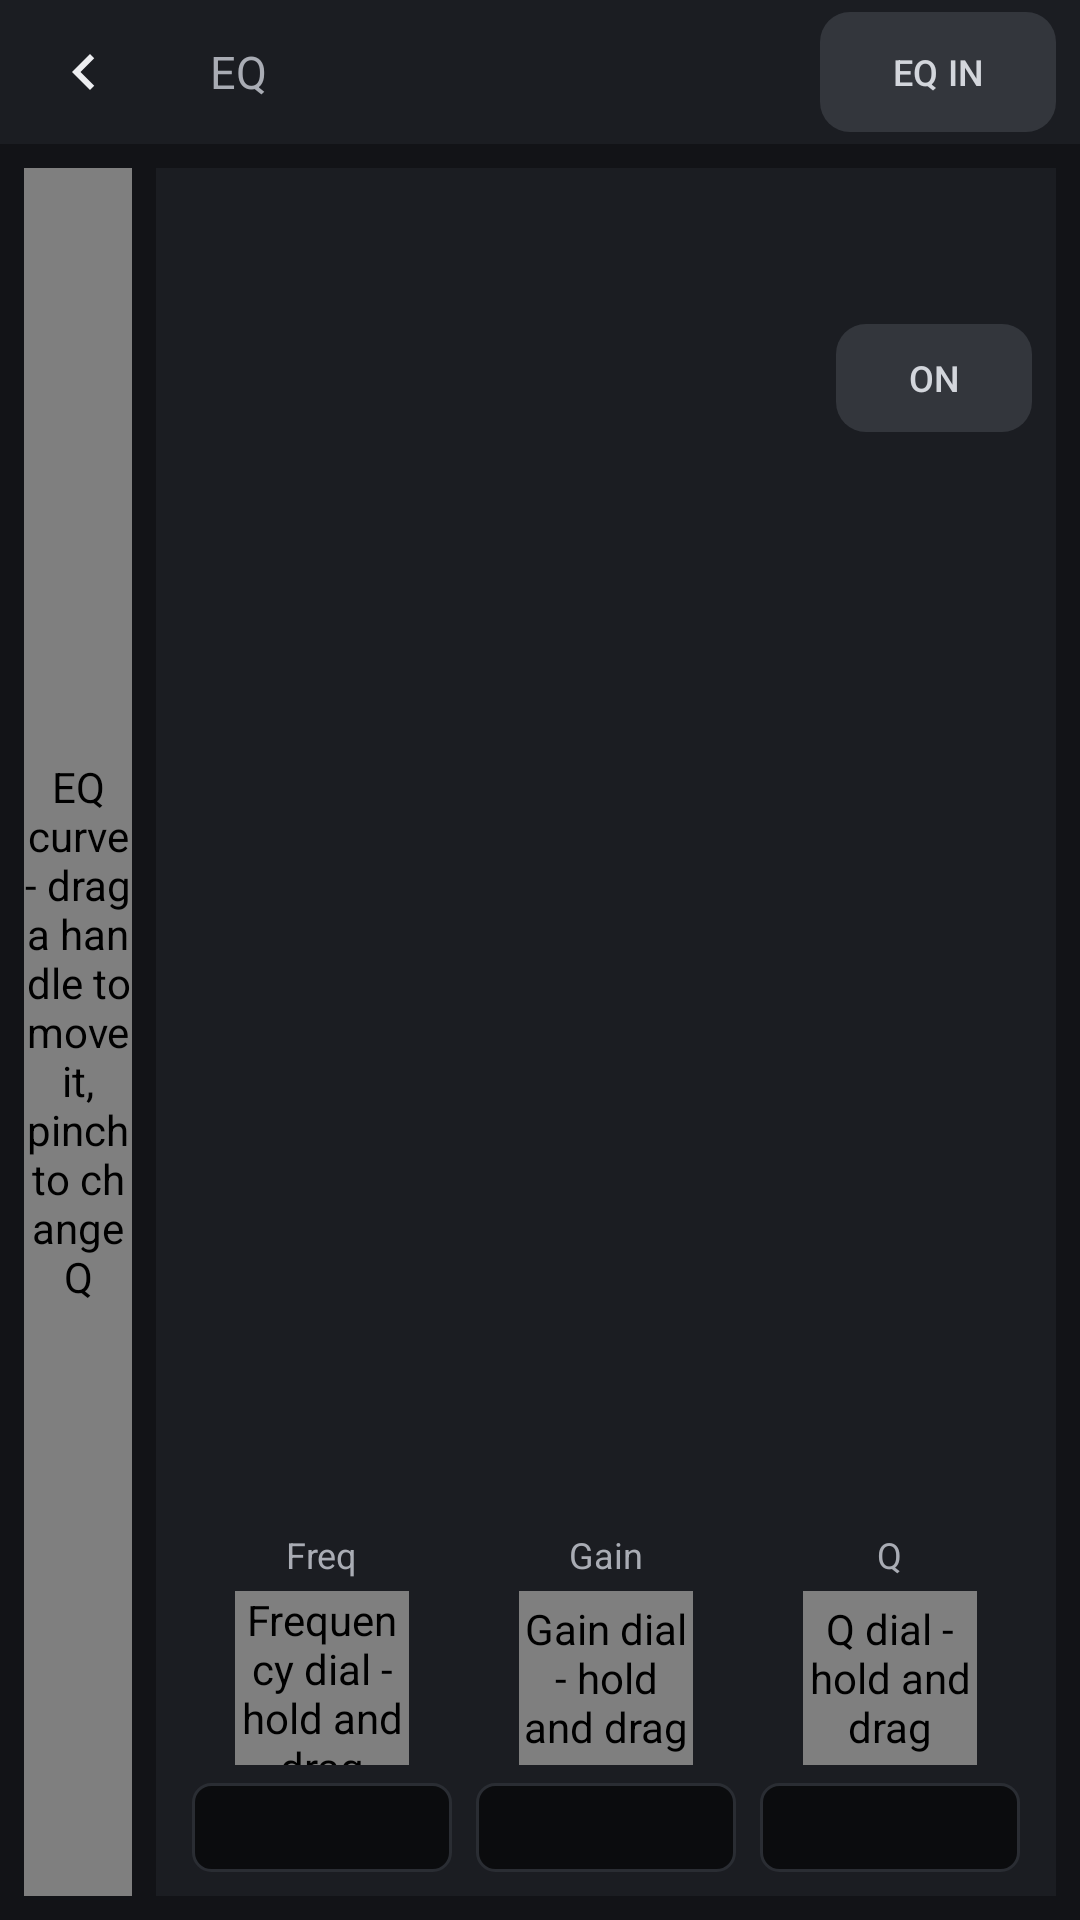

Icon click points for this 1080 × 1920 phone screenshot, format [x,y]:
Back to the mixer: [83,72]
